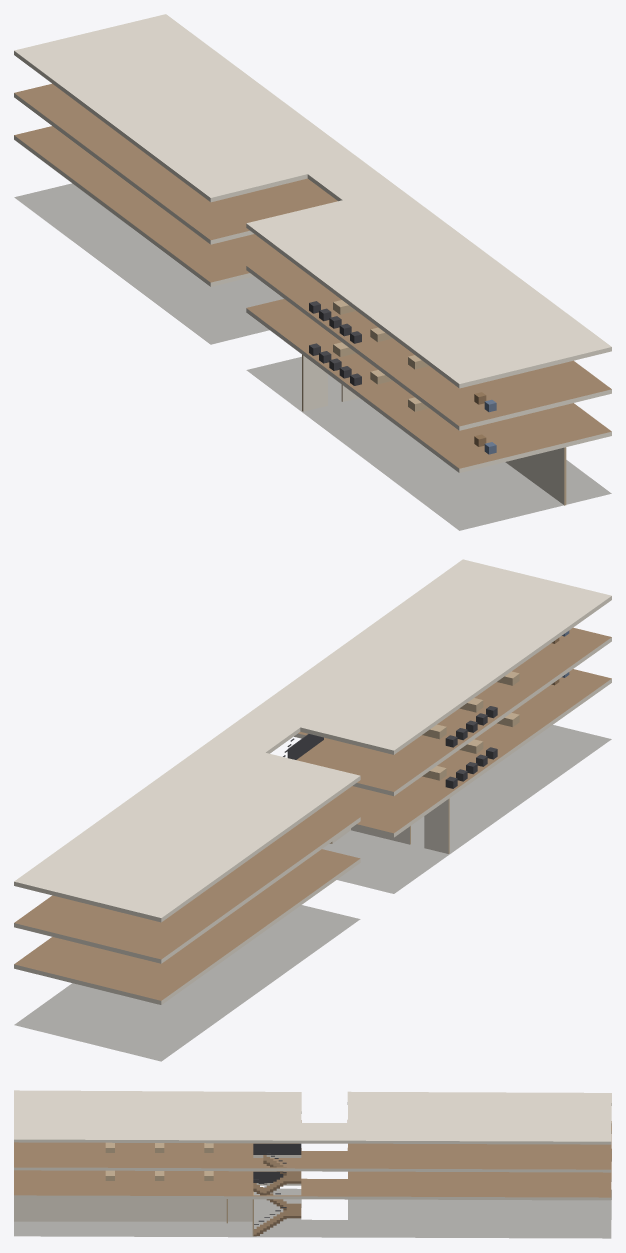
The model's file is interior.glb.
3 views of the same model, one above another, from view 1: azimuth 30°, elevation 25°; view 2: azimuth 150°, elevation 25°; view 3: azimuth 270°, elevation 25° (orthographic). The views are drawn at different scales.
Parts seen in each view (by area): view 1: slabs, partitions, coarse-s2, coarse-s1; view 2: slabs, partitions, coarse-s2, coarse-s1; view 3: slabs, partitions, stair, coarse-s1, coarse-s2.
Boxes of the visible parts, box(x1,y1,x2,y2) form: slabs: box(14, 14, 611, 530); partitions: box(302, 354, 566, 505); coarse-s2: box(309, 300, 496, 412); coarse-s1: box(309, 342, 496, 454); slabs: box(14, 559, 611, 1061); partitions: box(329, 798, 449, 853); coarse-s2: box(422, 630, 569, 747); coarse-s1: box(422, 672, 569, 788); slabs: box(14, 1090, 611, 1238); partitions: box(14, 1191, 253, 1235); stair: box(253, 1143, 301, 1236); coarse-s1: box(105, 1170, 213, 1180); coarse-s2: box(105, 1142, 213, 1152).
Size of the model in its own units: 9.84 by 8.69 by 48.53.
